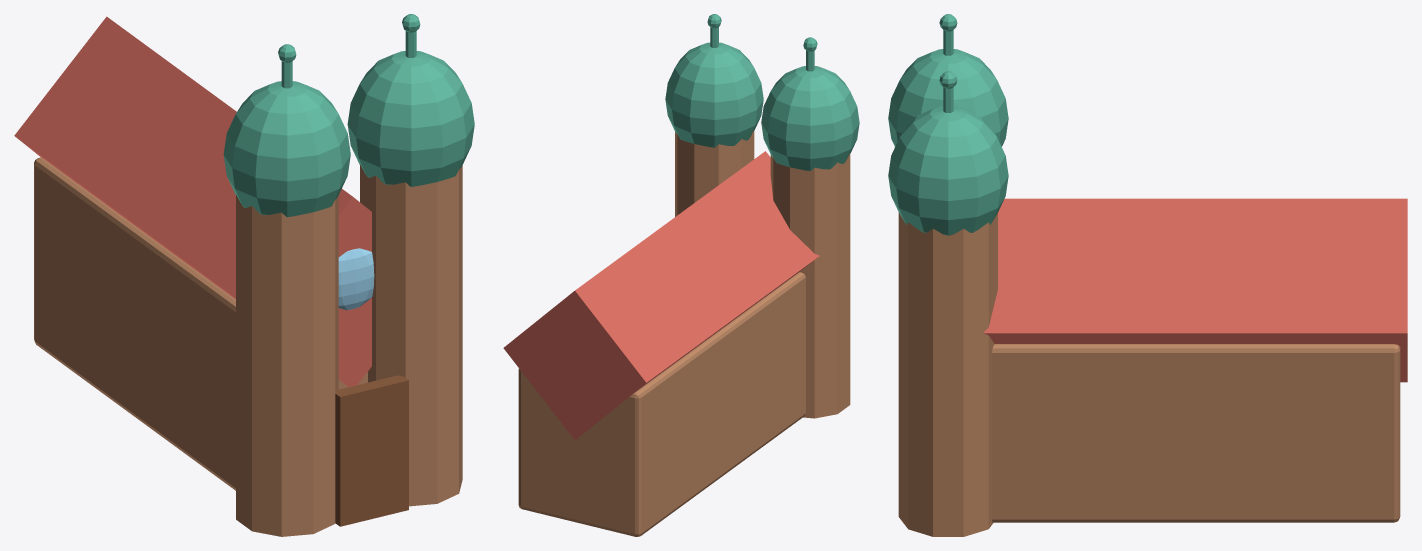
File: frauenkirche.glb
3 renders of one model, left to right at view 1: azimuth 30°, elevation 25°; view 2: azimuth 150°, elevation 25°; view 3: azimuth 270°, elevation 25°, orthographic. The views are drawn at different scales.
Parts seen in each view (by area): view 1: Frauenkirche; view 2: Frauenkirche; view 3: Frauenkirche.
Boxes of the visible parts, left/top/right/bottom form: Frauenkirche: left=14, top=14, right=474, bottom=536; Frauenkirche: left=503, top=14, right=859, bottom=536; Frauenkirche: left=888, top=14, right=1407, bottom=536.
Bounding box in the file's own units: 1.7 × 3.26 × 3.45.
